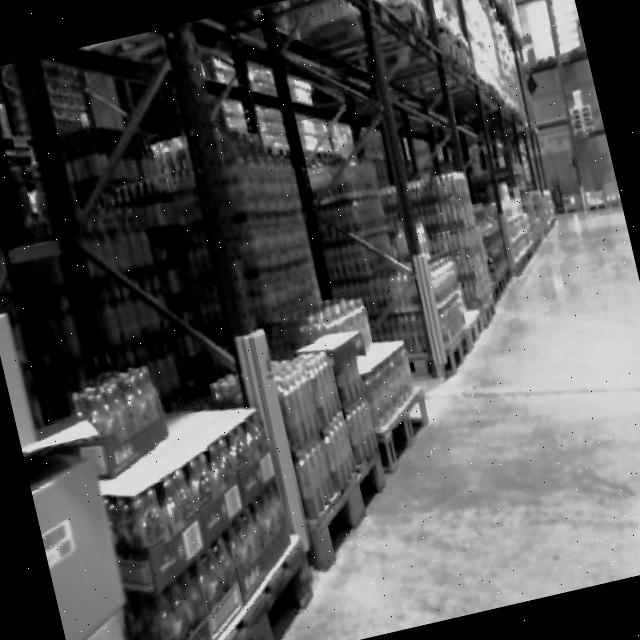ground: (170, 197, 640, 640)
pallet: (5, 287, 474, 640), (262, 0, 583, 399), (228, 294, 456, 578), (308, 164, 510, 399), (22, 435, 137, 640), (282, 0, 478, 114), (579, 176, 621, 214), (599, 178, 620, 208)
